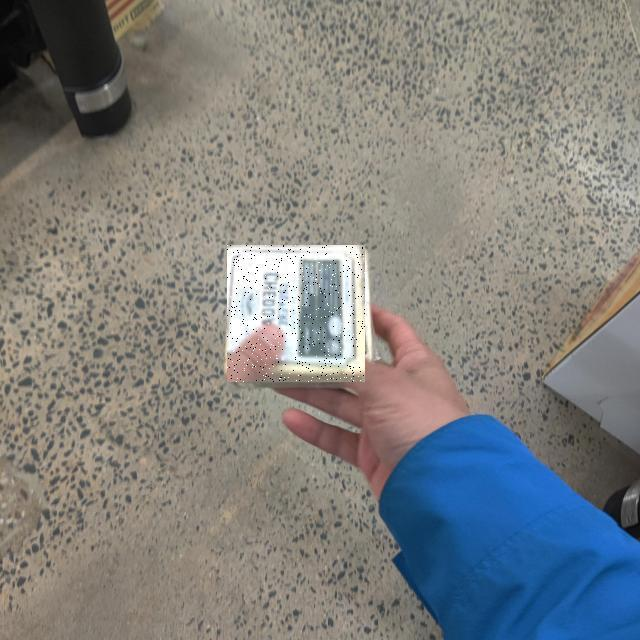cheese: (44, 191, 410, 573)
